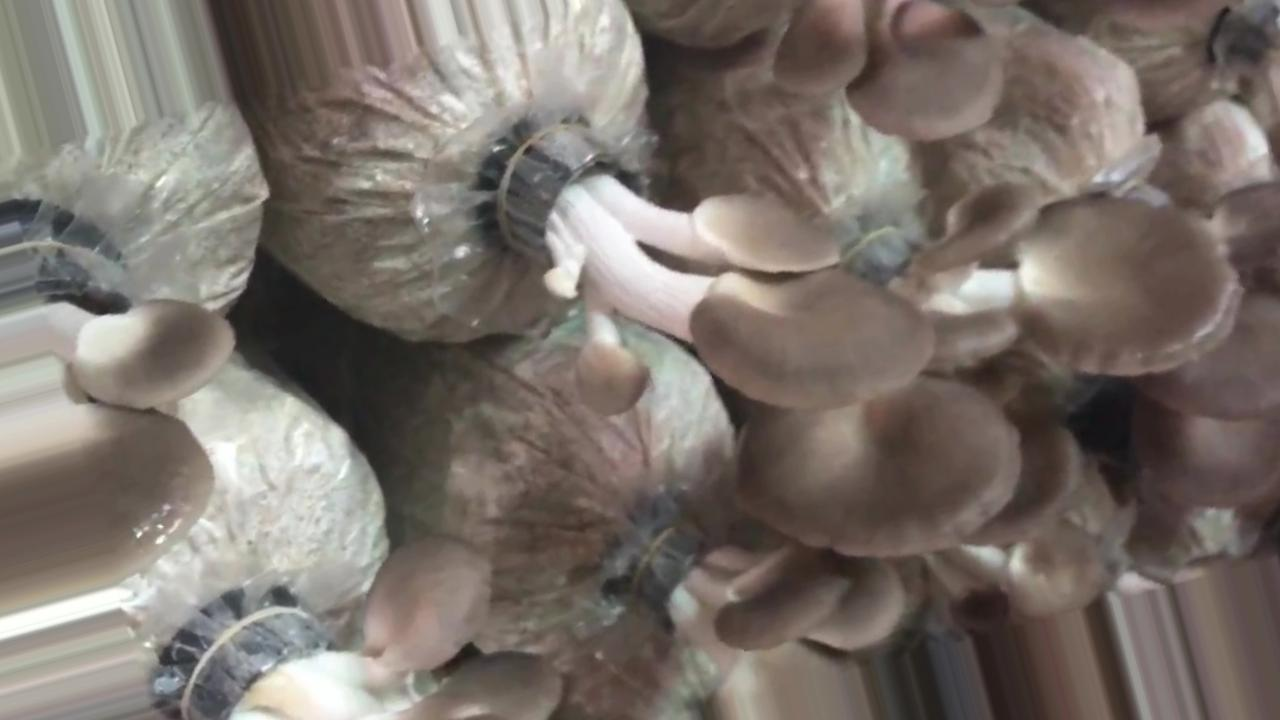nam: (730, 180, 1238, 564), (488, 117, 930, 420), (1, 227, 239, 617), (175, 538, 564, 720), (613, 517, 906, 720), (771, 1, 1011, 149)
